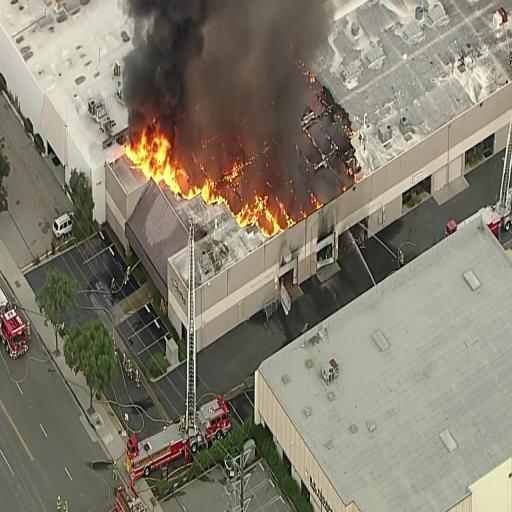fire: (130, 127, 174, 192)
smoke: (118, 0, 198, 134)
